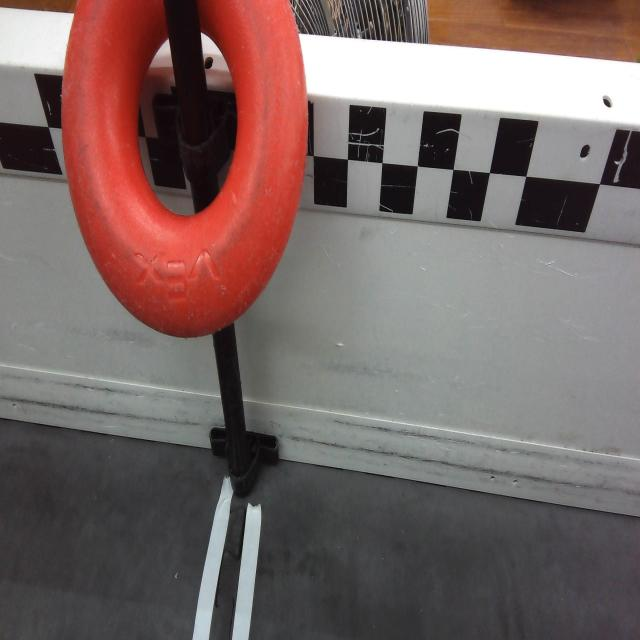Red-Ring: (61, 0, 310, 338)
